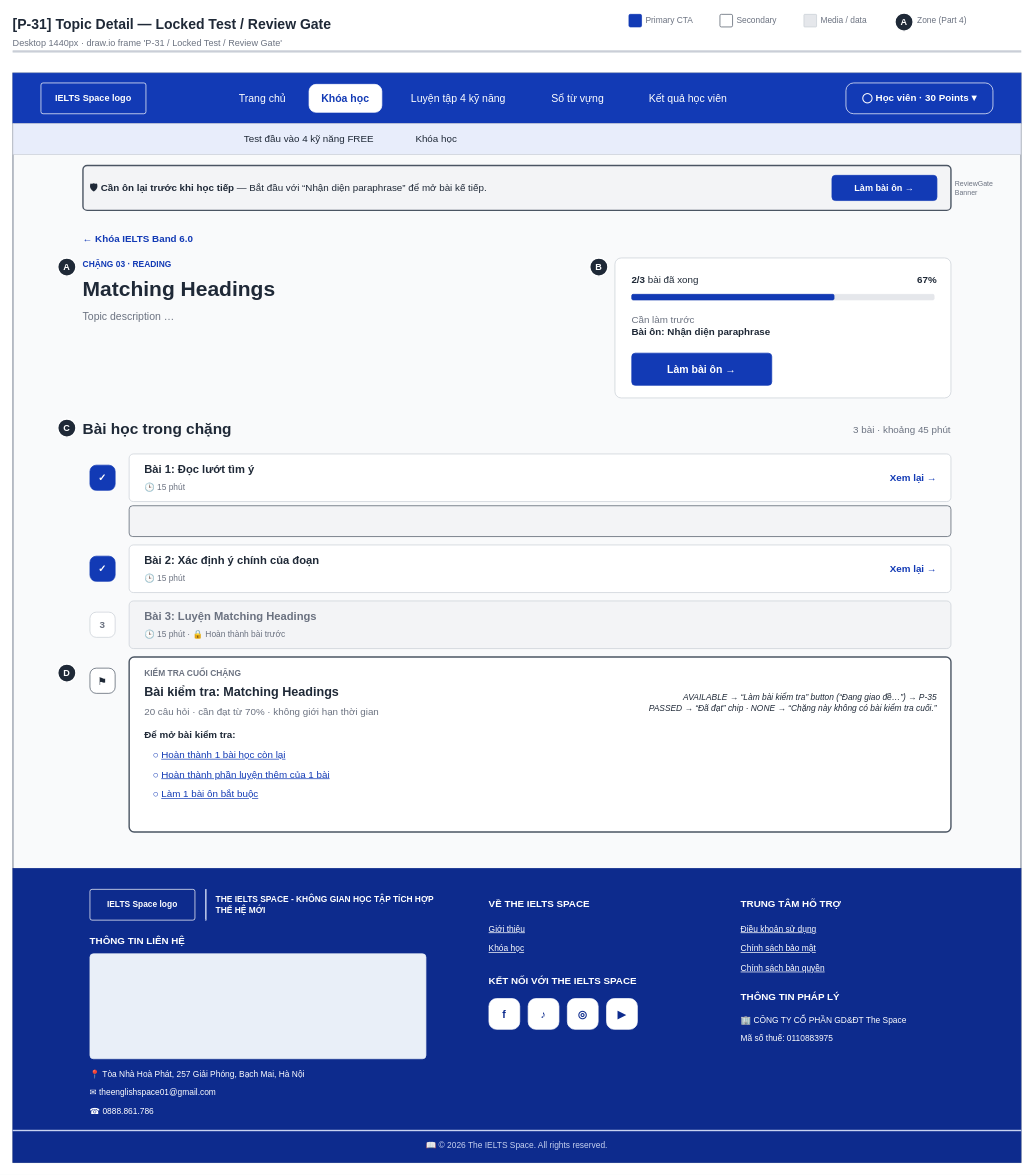
This 1034x1175 diagram has some shape labels left out. Here are the shapes that lost their labels. From the top down, the centre of each, then its label:
point (539, 521): 🏋 Cần luyện thêm trước khi mở bài kiểm tra chặng — Luyện ngay → (P-33)
point (257, 1006): 📍 The IELTS Space Mở trong Maps ↗
